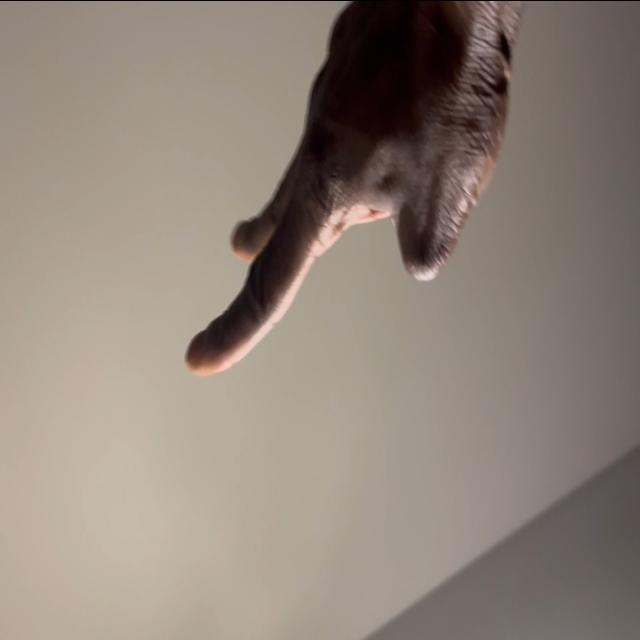Scissors: (182, 0, 521, 378)
